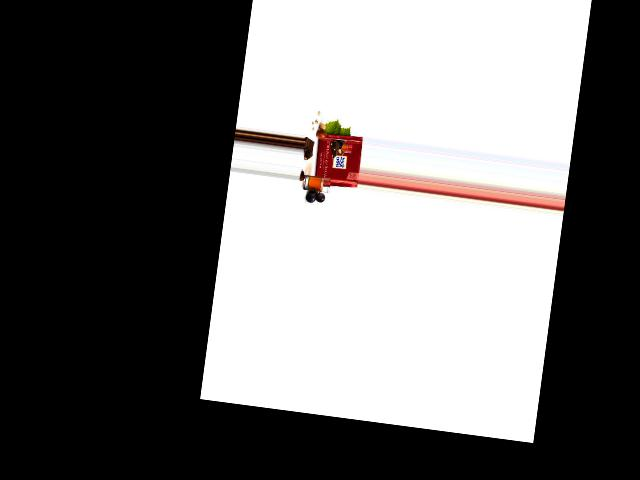chocolate: (313, 130, 363, 188)
